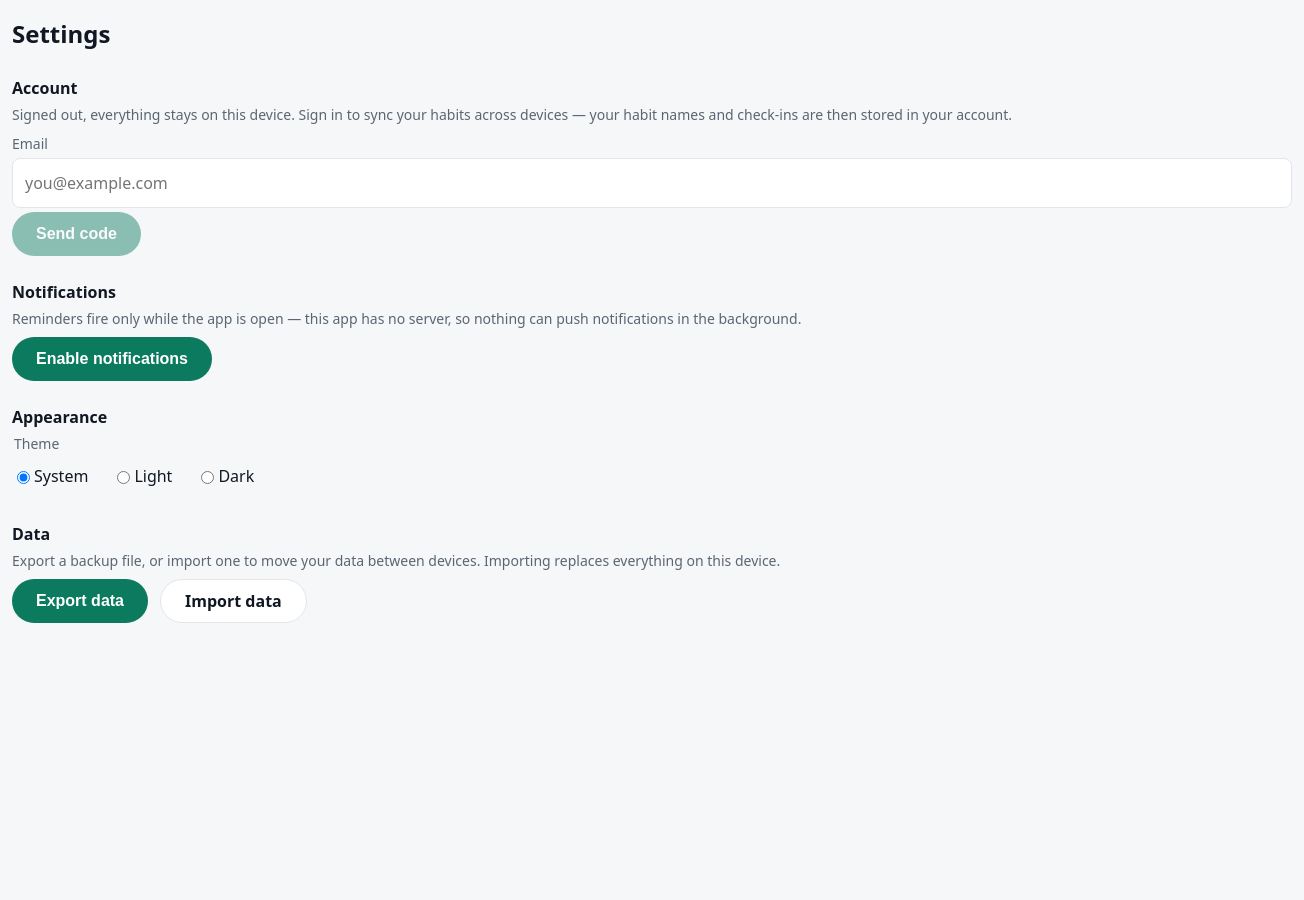
Test: account section, signed out › entering the code signs in and shows the account
Type "me@example.com" into the field labelled "Email" at coordinates (652, 183), box x1=12 y1=158 x2=1292 y2=208
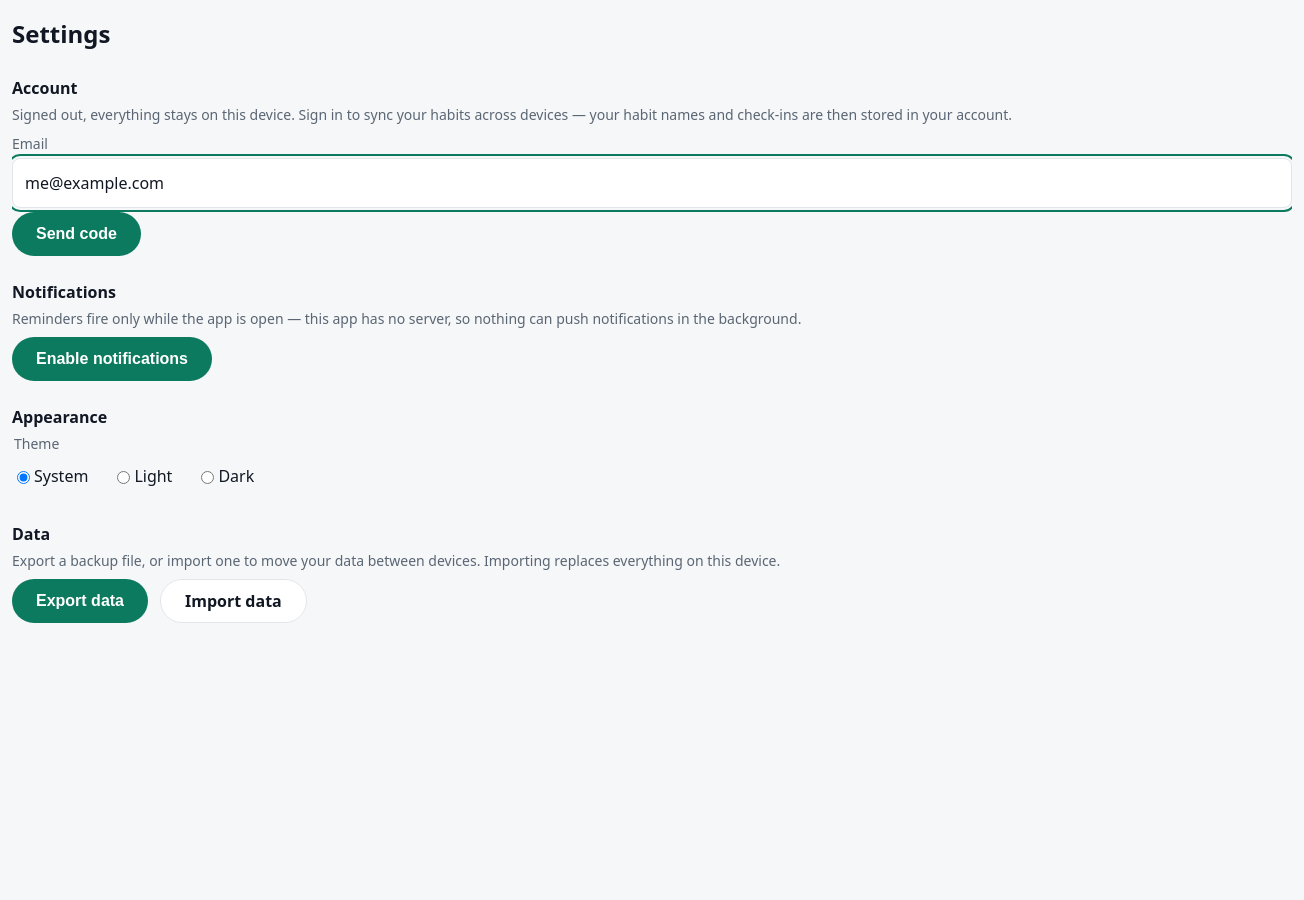
Click the button "Send code" at coordinates (76, 234), box x1=12 y1=212 x2=141 y2=256
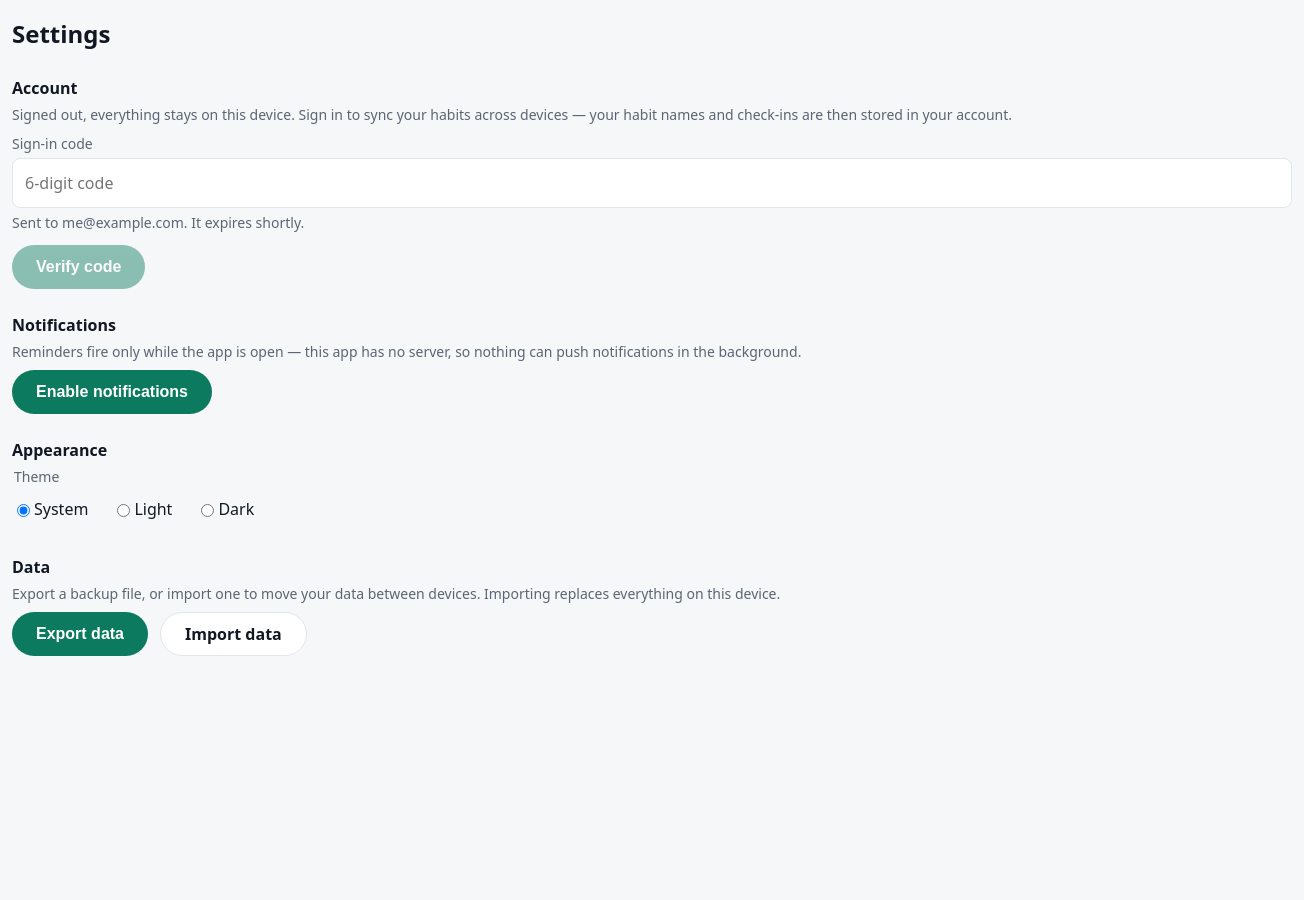
Type "123456" into the field labelled "Sign-in code" at coordinates (652, 183), box x1=12 y1=158 x2=1292 y2=208
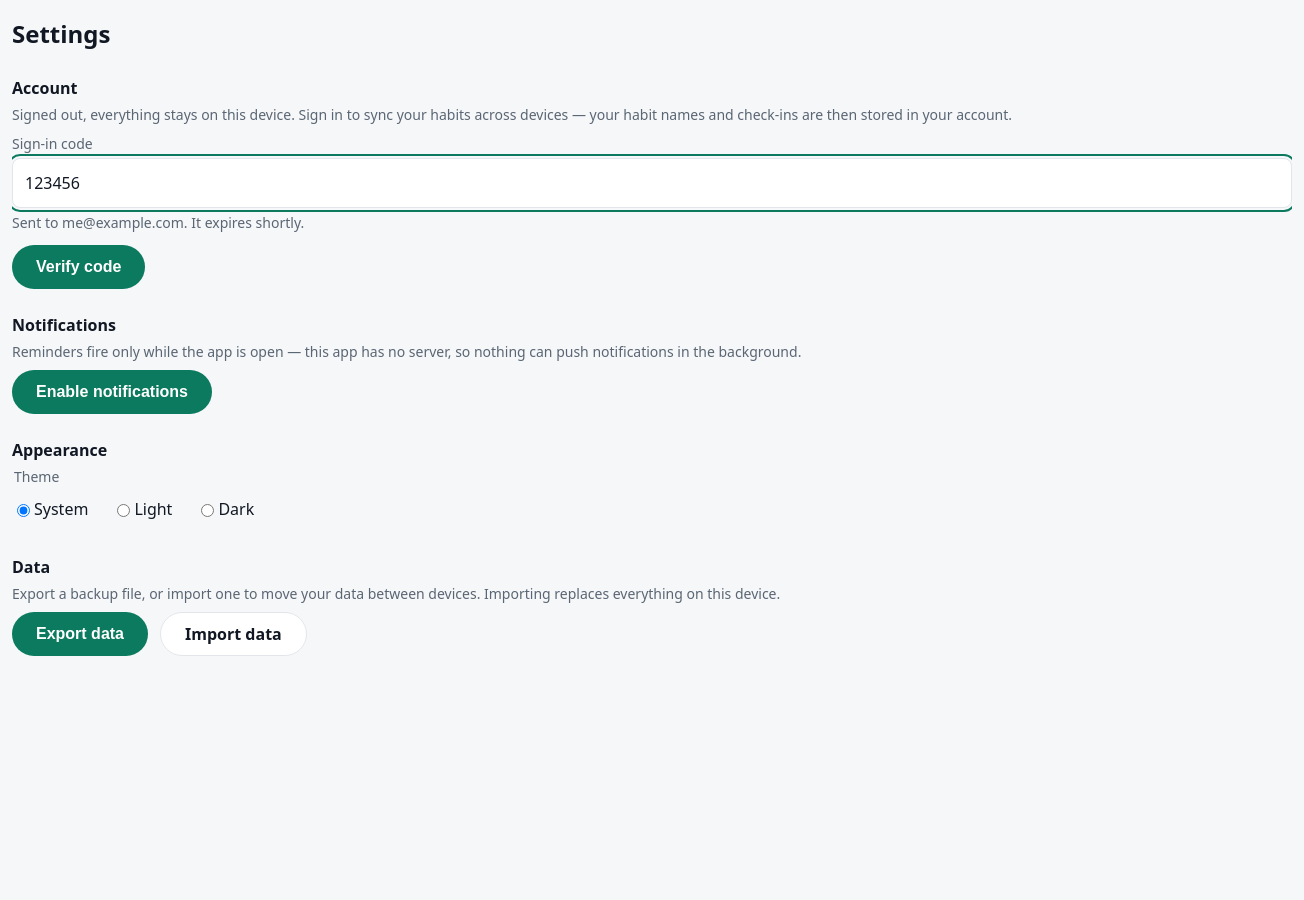
Click the button "Verify code" at coordinates (79, 267), box x1=12 y1=245 x2=145 y2=289
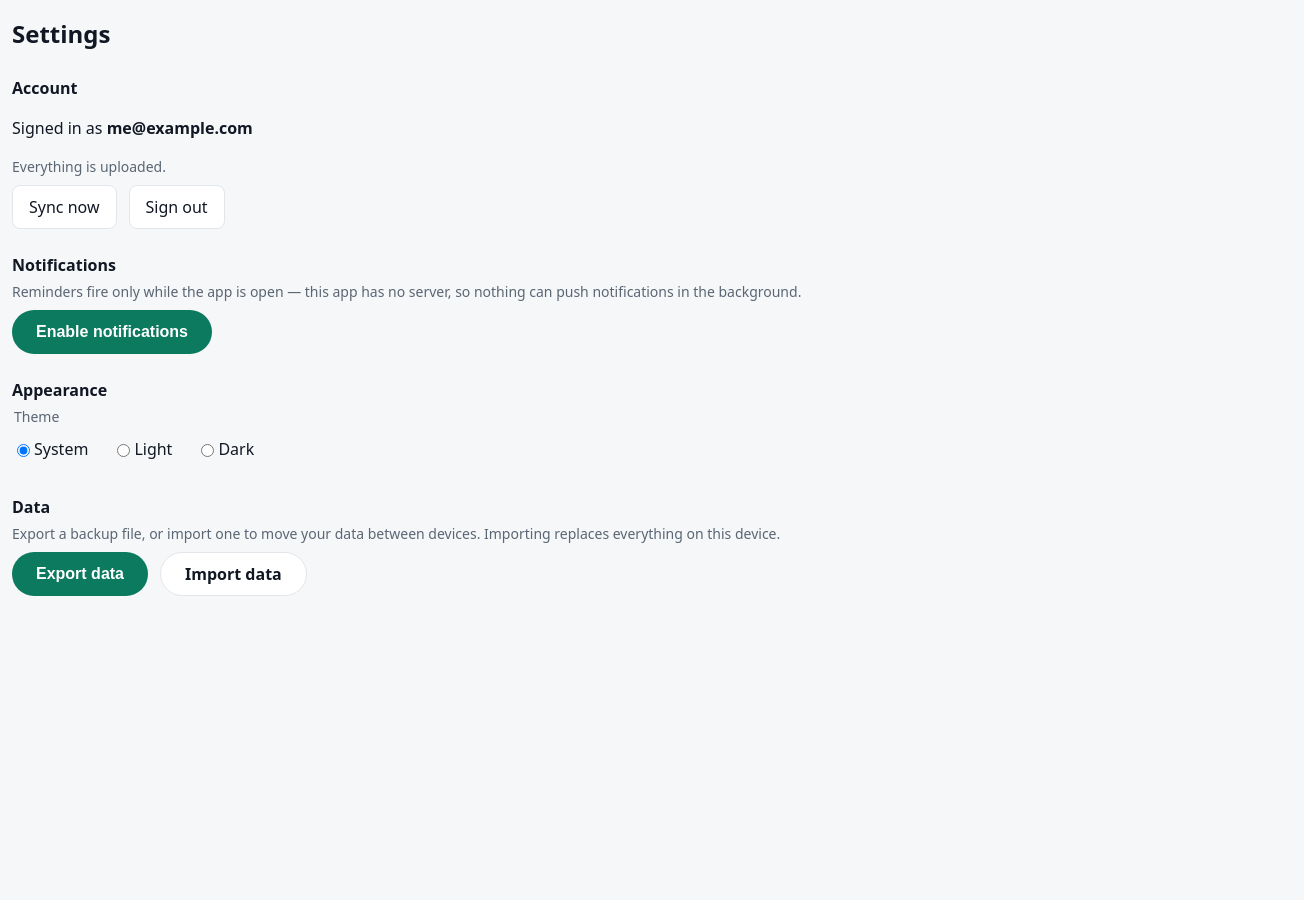
Expected: the text "Signed in as me@example.com" is shown, x1=12 y1=117 x2=253 y2=139
